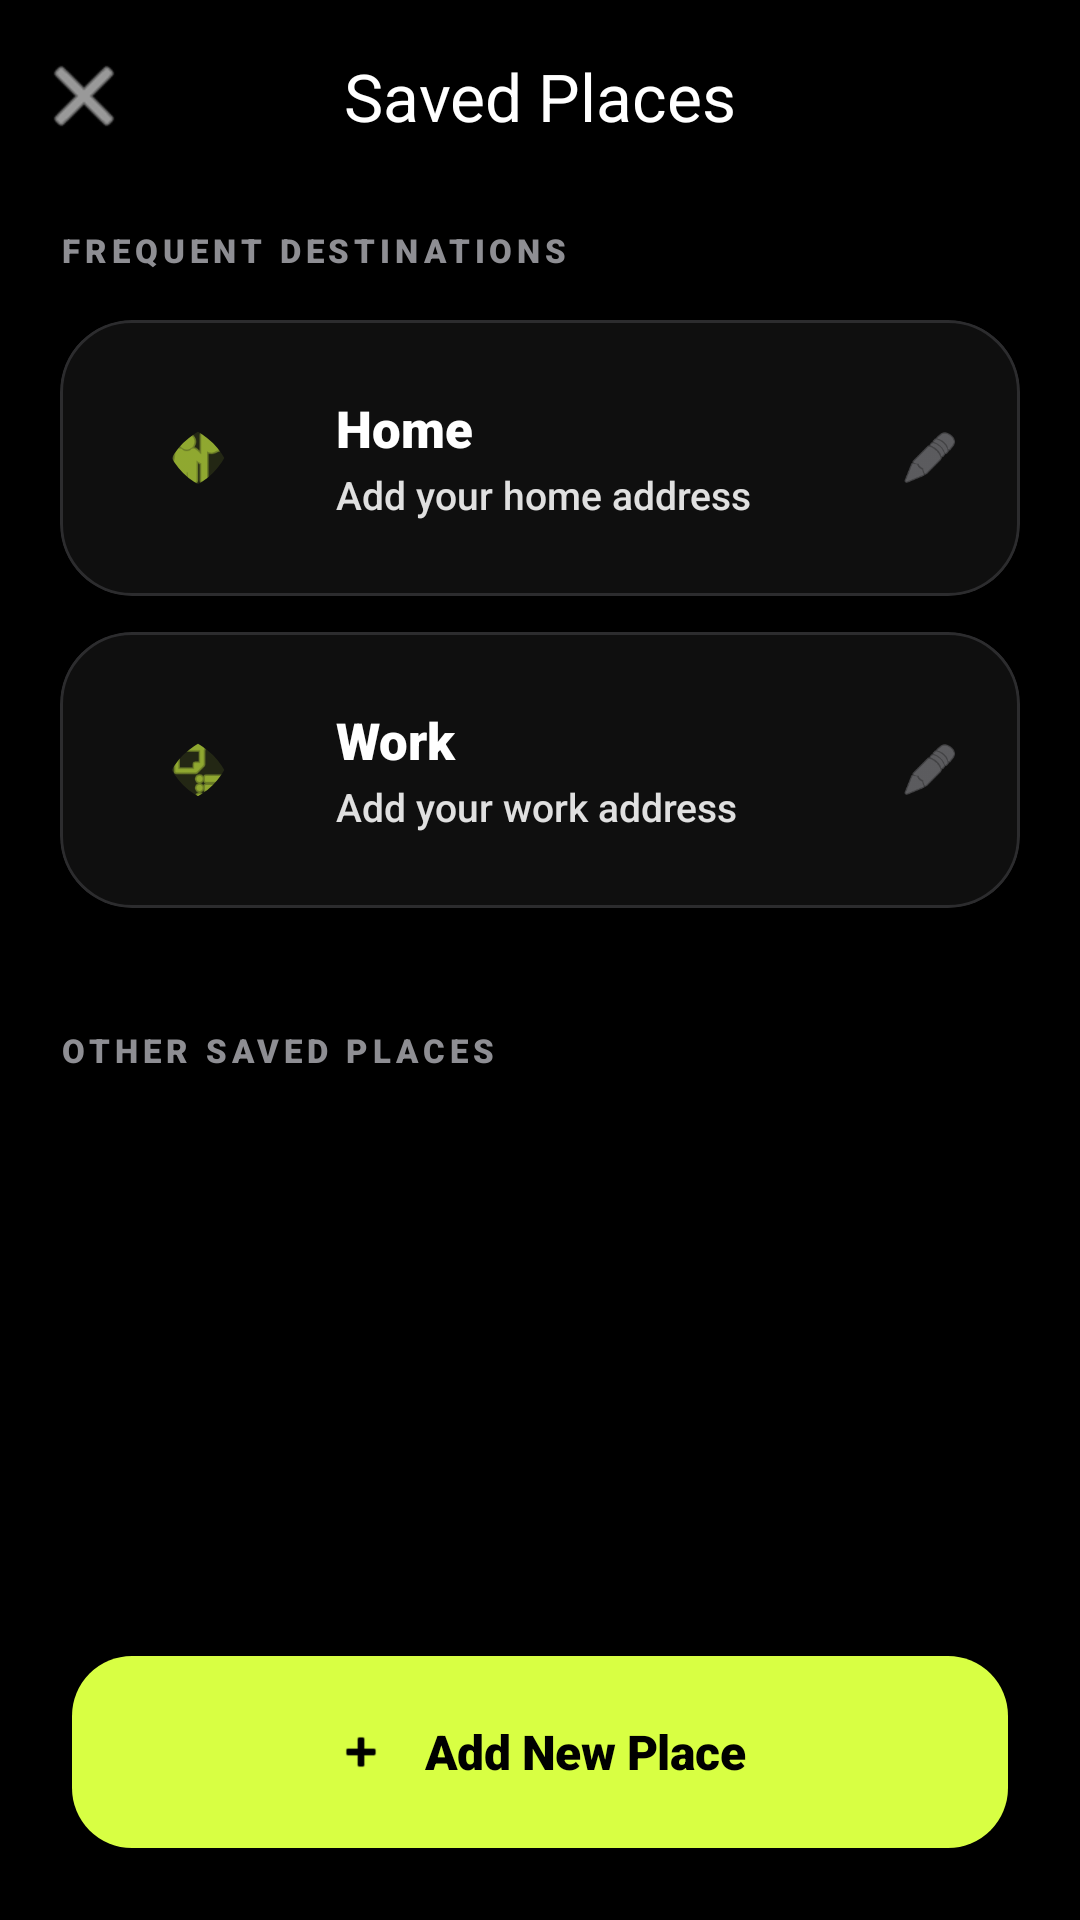

Named icons in this screenshot (1080*1920) and their centers, point (x, y):
Edit Home: point (930, 457)
Edit Work: point (930, 769)
